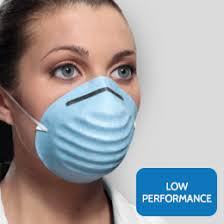mask: (14, 15, 141, 180)
